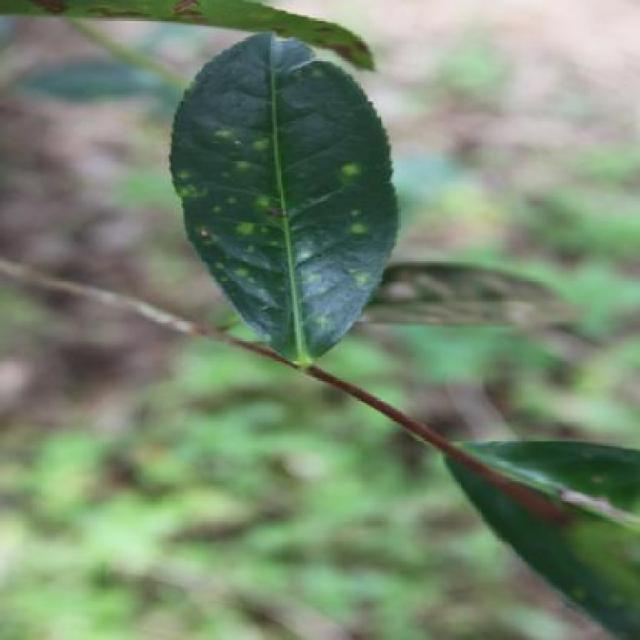White spot of tea: (176, 44, 387, 344)
